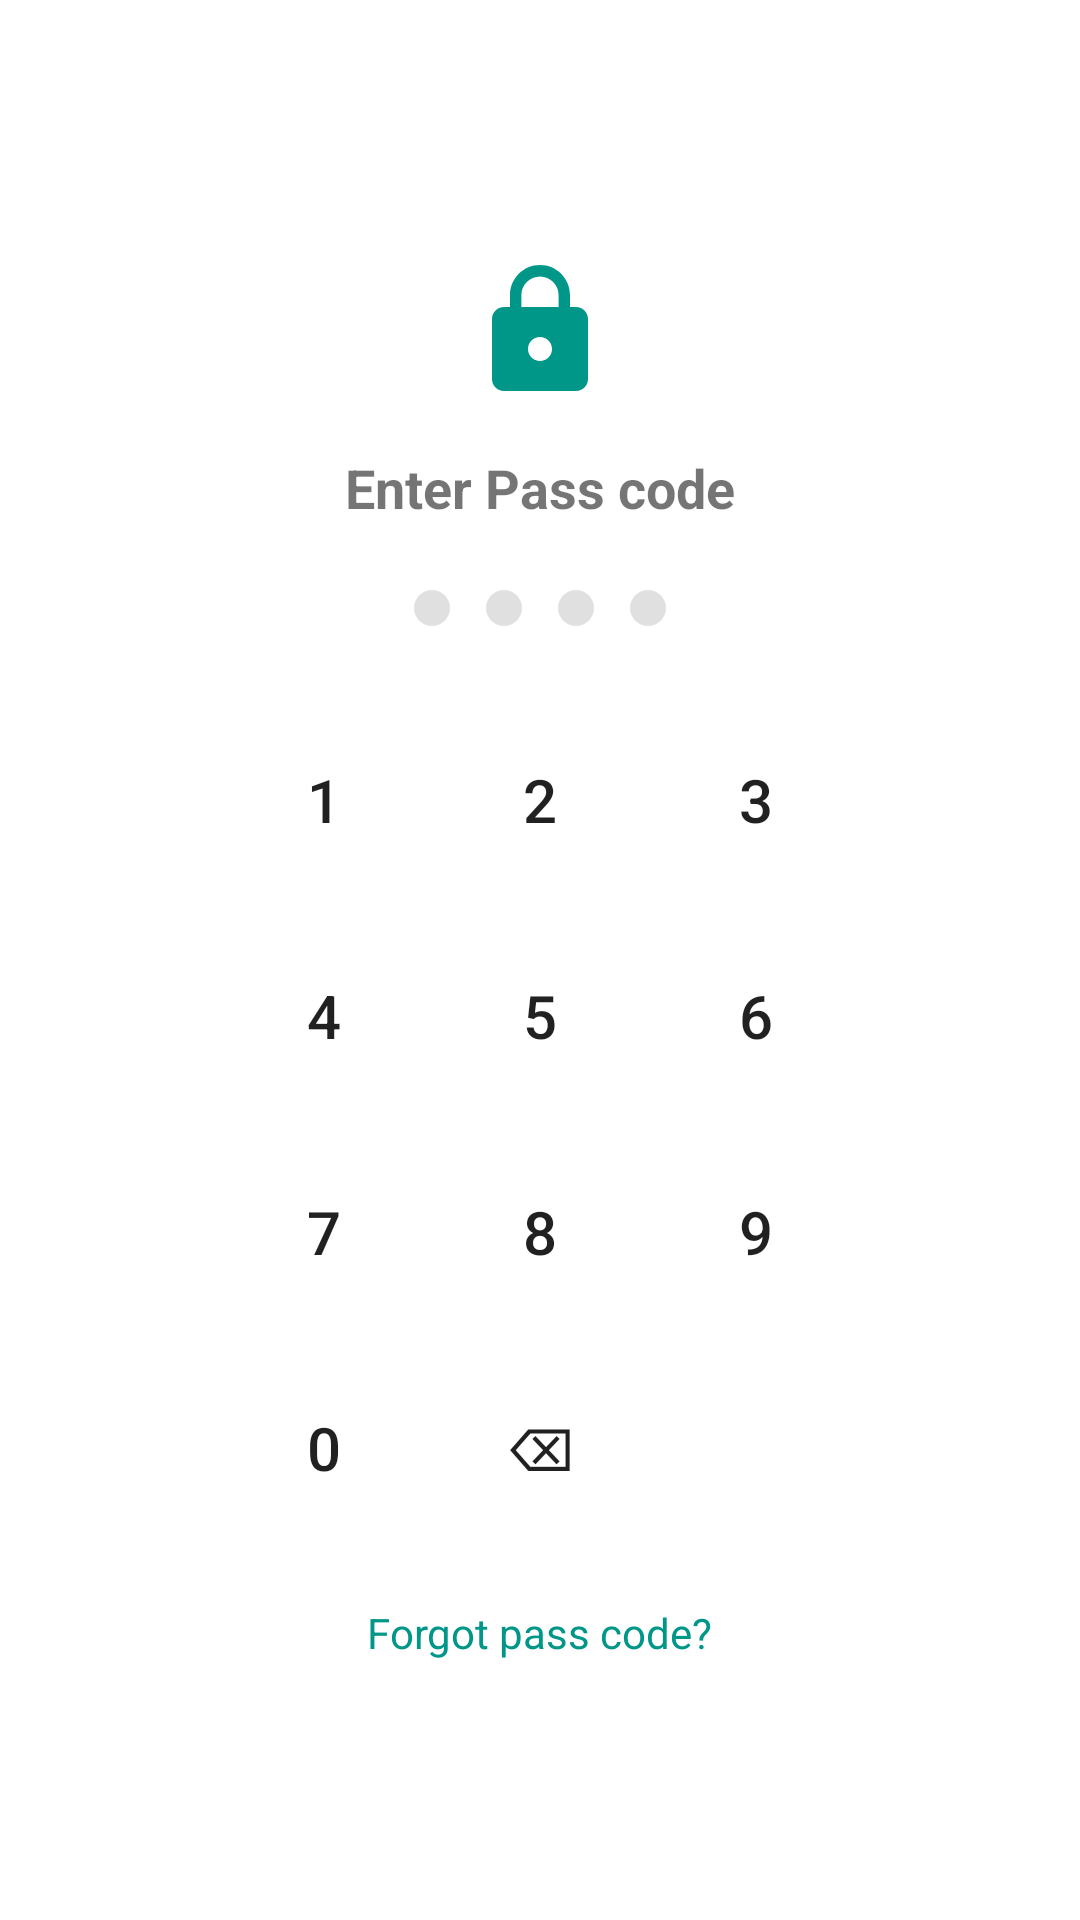

Screen size 1080 x 1920. Icon name, then its box in pixels as [x1, y1, x2, y2]:
Lock: [492, 265, 588, 391]
